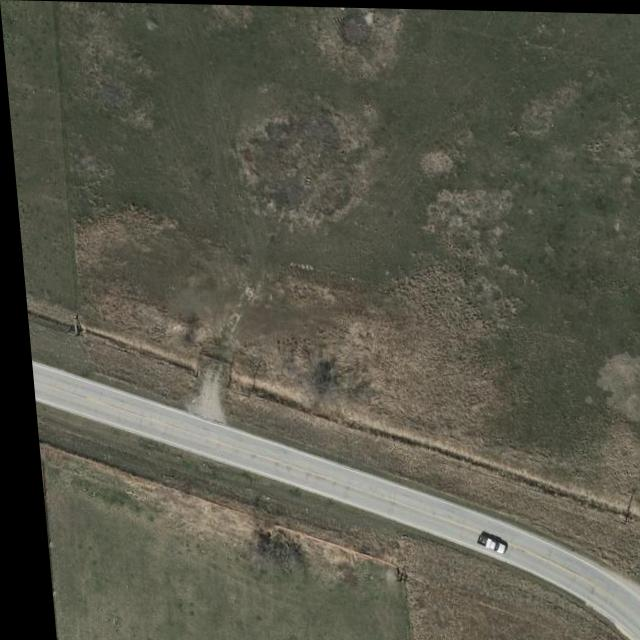vehicle: (467, 532, 499, 553)
